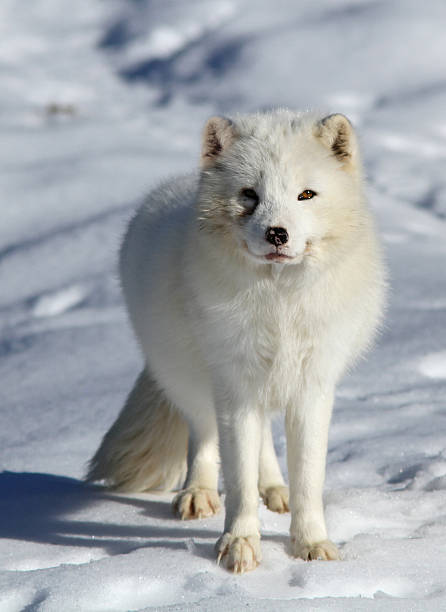arcticfox: (205, 110, 358, 289)
